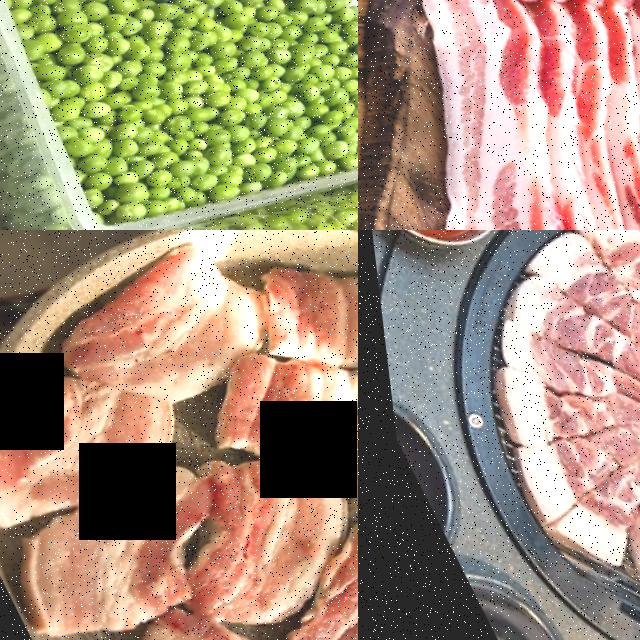peas: (0, 0, 358, 230)
pork belly: (150, 419, 358, 626), (471, 261, 640, 506), (176, 310, 358, 501), (382, 0, 590, 116), (95, 558, 358, 640), (234, 230, 358, 372), (247, 484, 358, 640)
